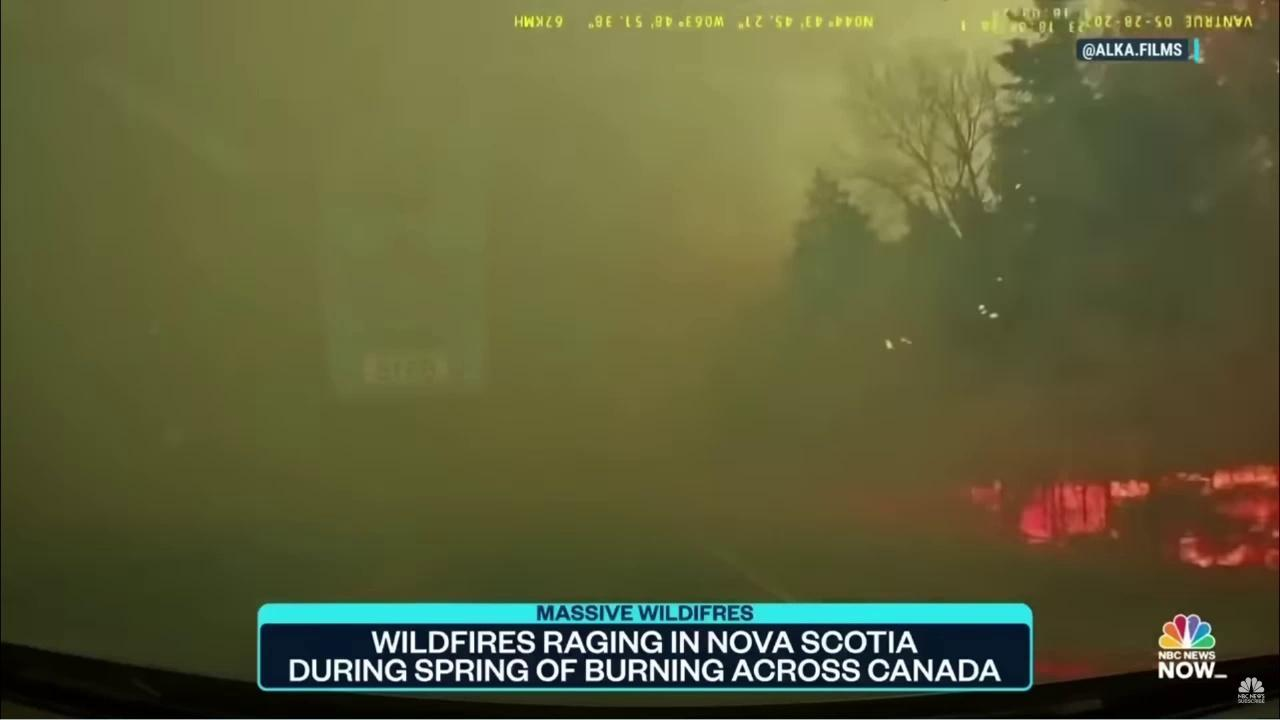fire: (953, 462, 1280, 573)
smoke: (3, 0, 1280, 658)
